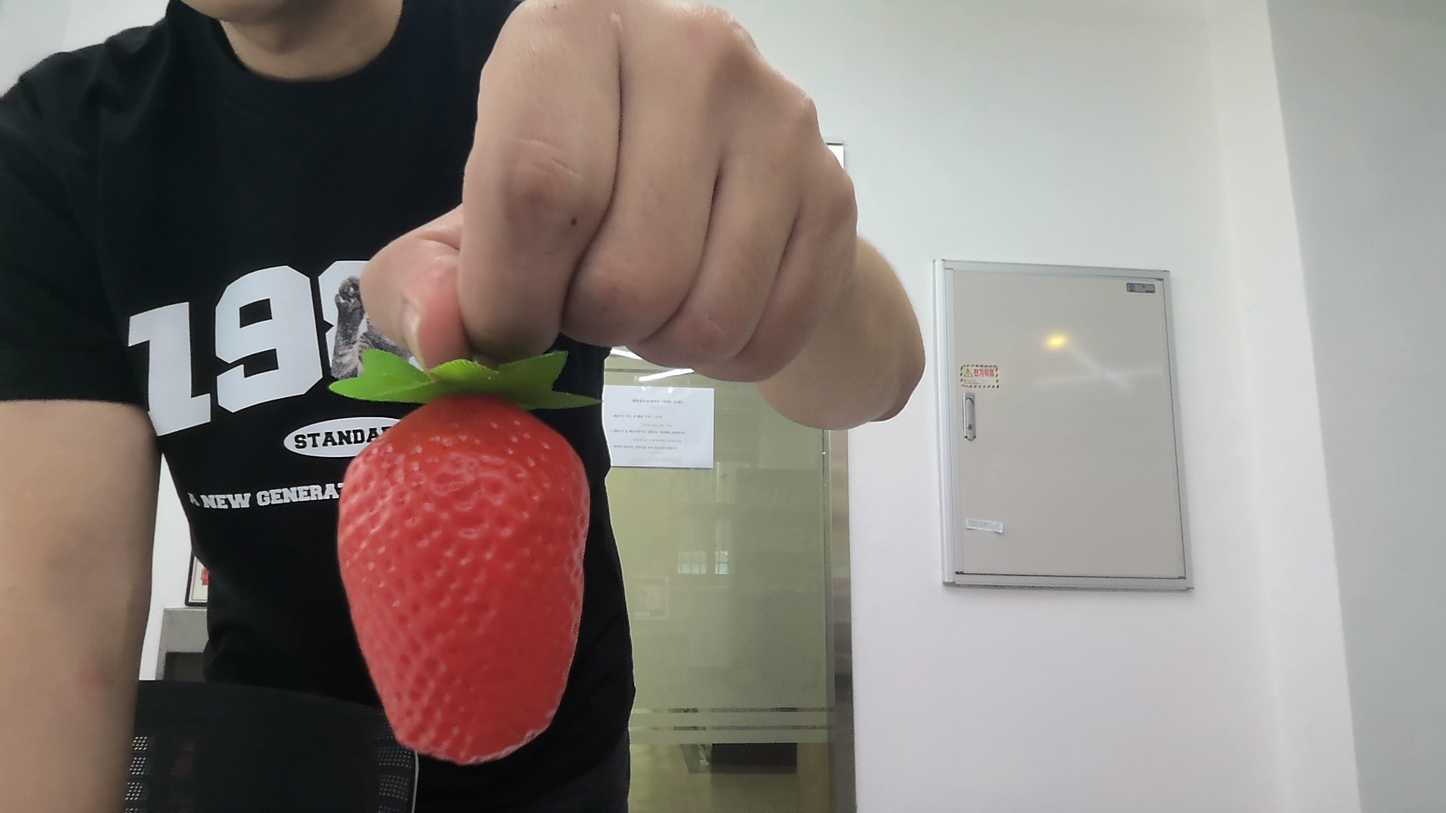strawberry: (328, 357, 607, 766)
